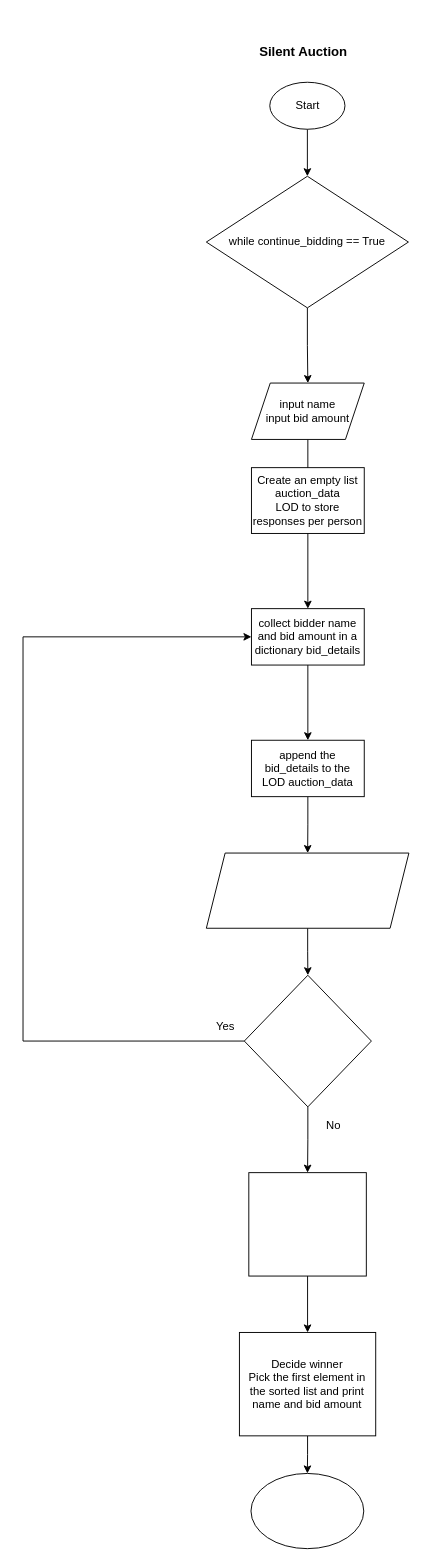
This 426x1565 diagram has some shape labels left out. The box of each missing label's shape, as (x1, y1, x2, y2) in pixels:
Any more bidders?: (243, 974, 371, 1107)
ask users if "Are there any other bidders?": (205, 852, 409, 928)
Sort each element in the LOD auction_data by bid amount in descending order: (248, 1172, 366, 1276)
Stop: (250, 1473, 364, 1549)
